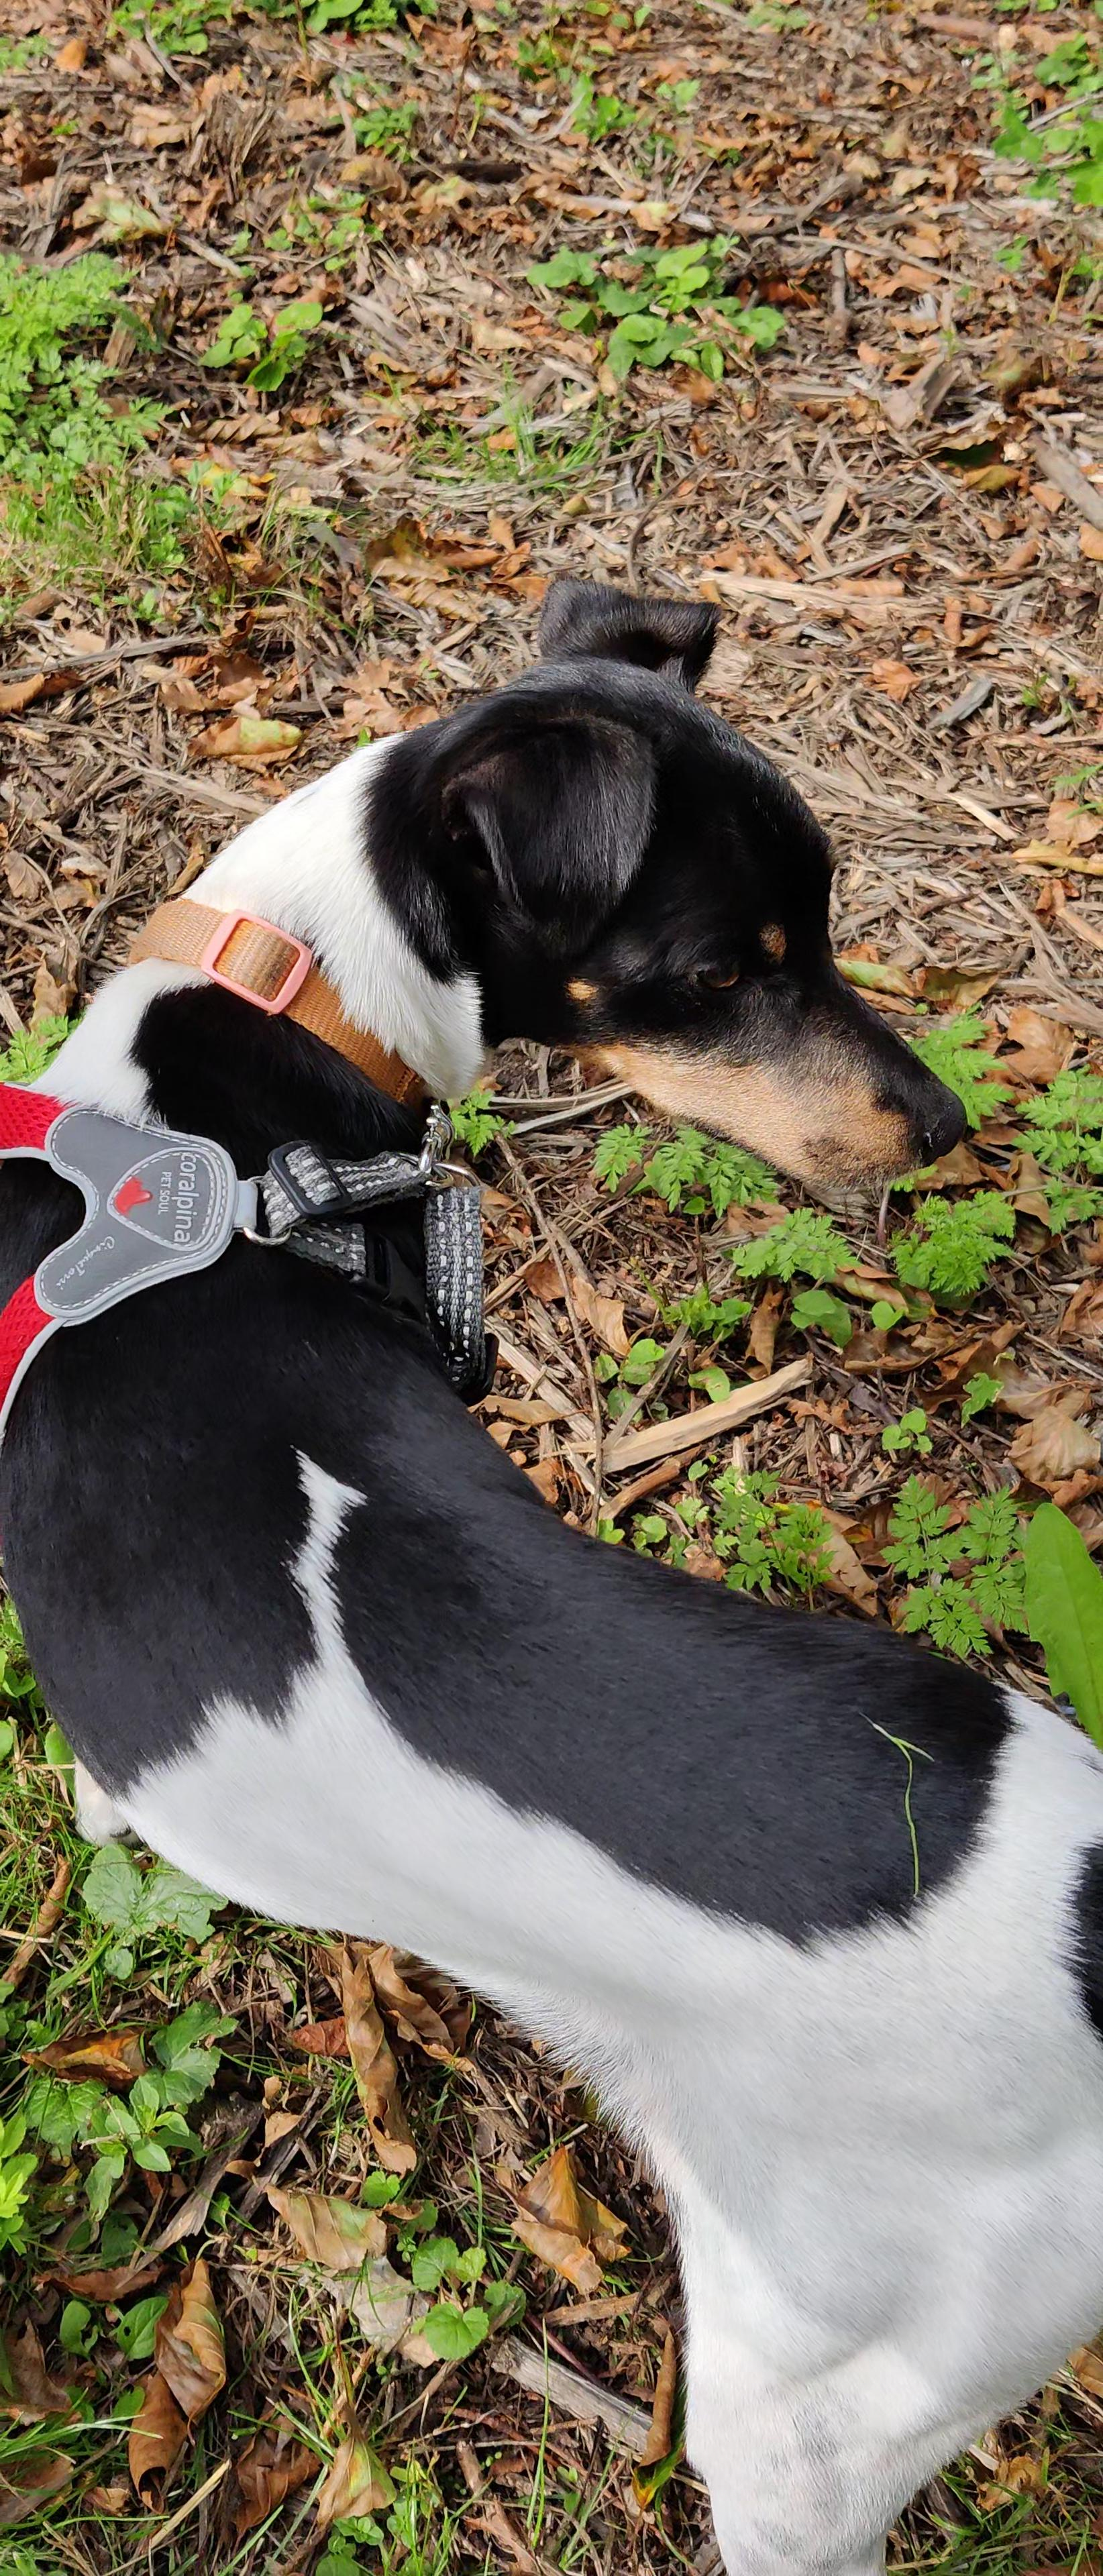Dog: (0, 570, 1103, 2576)
